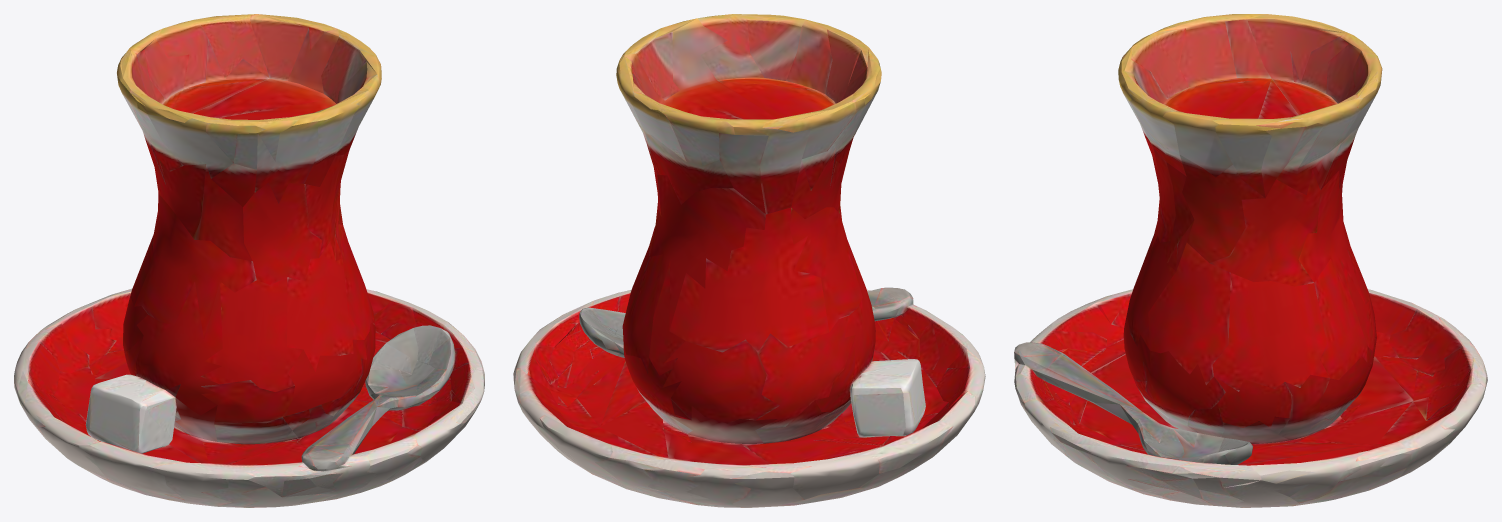
The model's file is cay.glb.
The picture shows the model from 3 angles, left to right: view 1: azimuth 30°, elevation 25°; view 2: azimuth 150°, elevation 25°; view 3: azimuth 270°, elevation 25°; orthographic projection.
Visible parts, largest first — view 1: output_unwrapped; view 2: output_unwrapped; view 3: output_unwrapped.
Boxes of the visible parts, x1,y1,x2,y2 form: output_unwrapped: (14, 14, 484, 507); output_unwrapped: (513, 14, 985, 507); output_unwrapped: (1014, 14, 1487, 507).
Size of the model in its own units: 1.89 by 1.6 by 1.9.
1 material, 1 textured.
